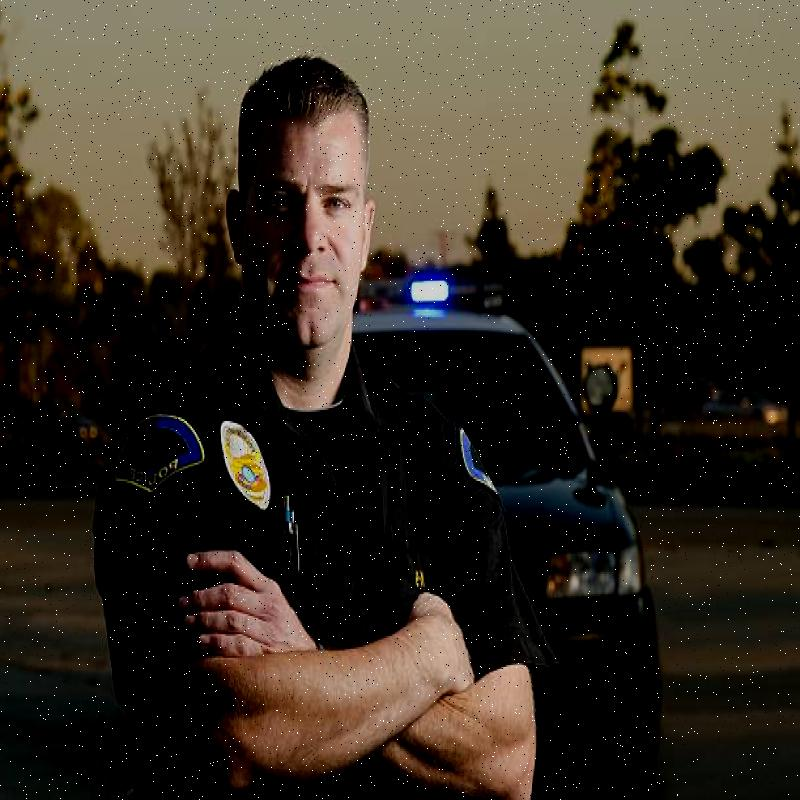AmbulanceSiren: (400, 261, 458, 328)
